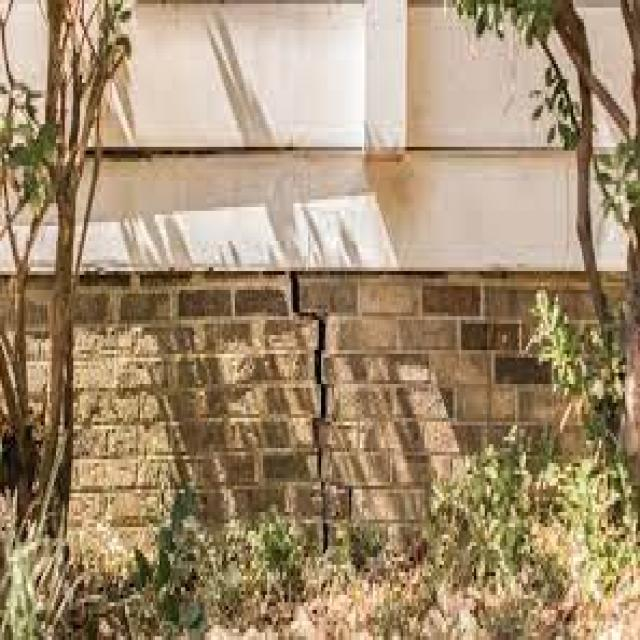Crack: (285, 267, 336, 554)
